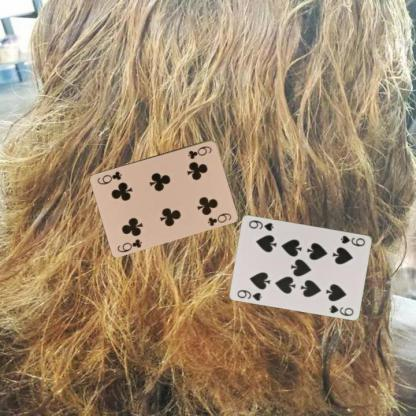6c: (115, 236, 143, 253), (186, 143, 212, 160)
9s: (234, 287, 264, 302), (338, 233, 366, 247)
